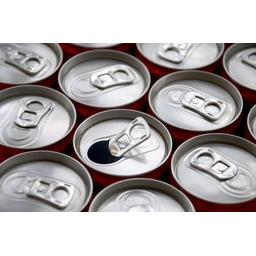metal: (66, 102, 179, 180), (50, 41, 153, 112), (141, 66, 245, 135), (168, 133, 256, 208), (0, 147, 91, 216), (83, 172, 189, 222), (0, 83, 76, 151)
